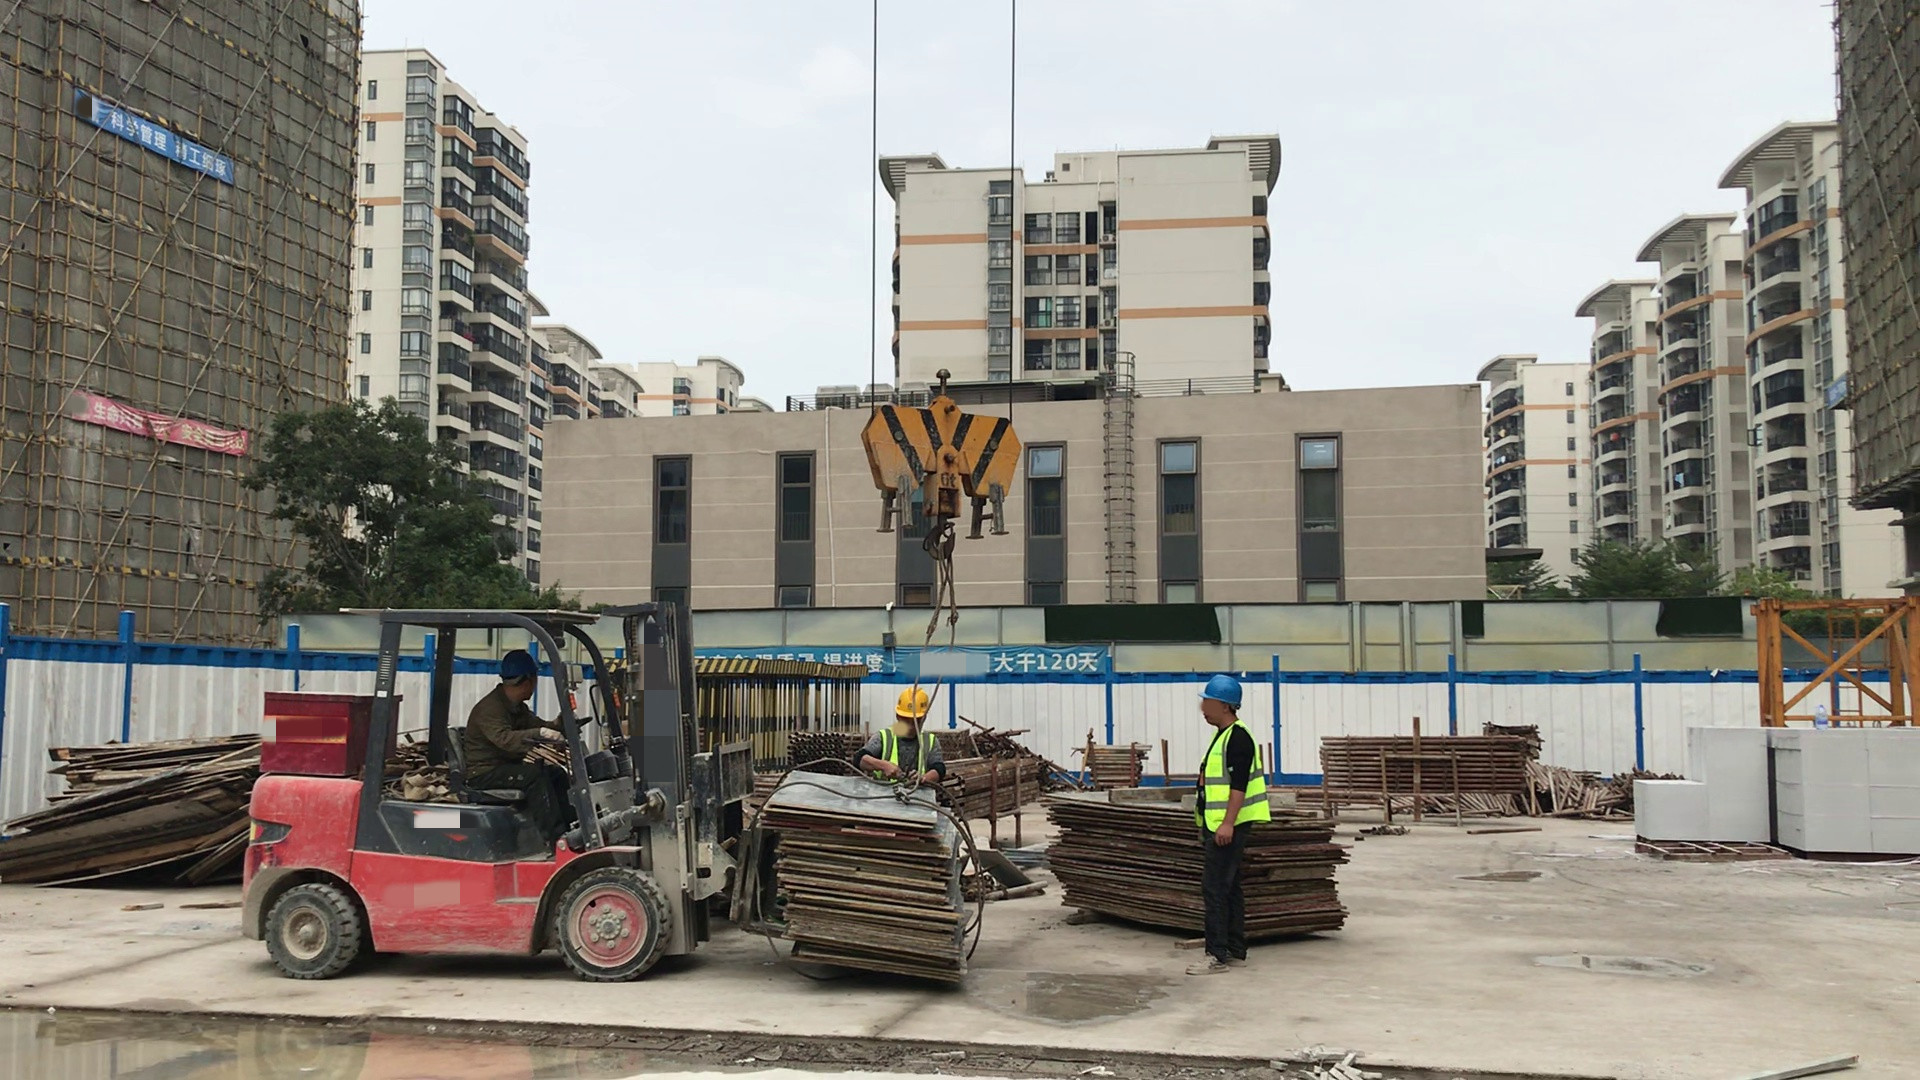board: (1049, 753, 1341, 964), (767, 754, 981, 997), (28, 731, 284, 905), (1311, 708, 1547, 817)
brick: (1621, 689, 1920, 874)
helmet: (488, 643, 537, 689), (1197, 676, 1238, 713), (903, 687, 940, 715)
hook: (859, 383, 1025, 557)
person: (1182, 664, 1293, 967), (869, 680, 1008, 887), (449, 645, 574, 837)
slogan: (607, 626, 1145, 700), (77, 76, 248, 193), (66, 365, 255, 469)
vest: (1192, 722, 1267, 830), (869, 708, 952, 786)
